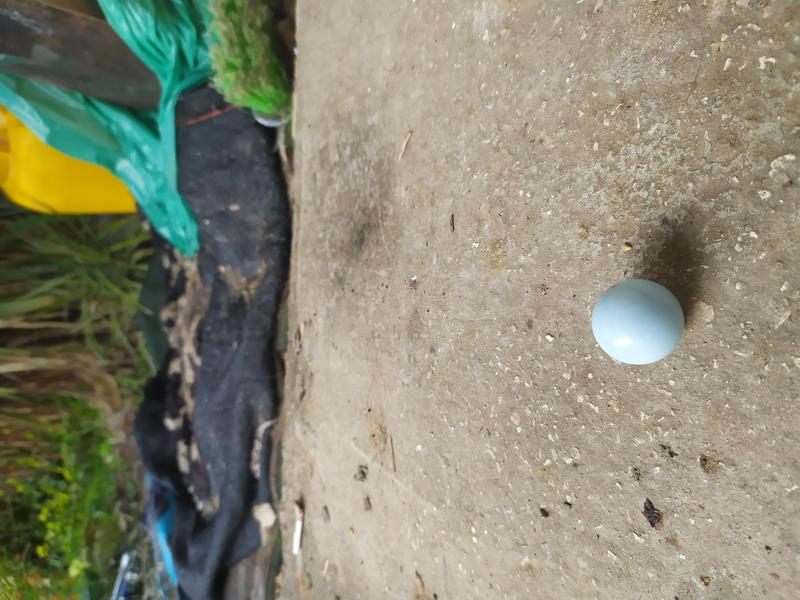Warning: (589, 276, 688, 367)
